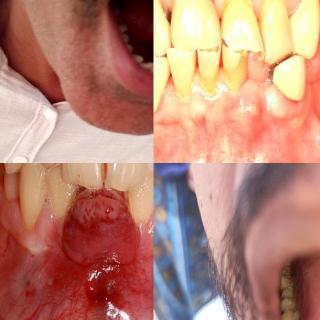Gum Swelling: (154, 72, 301, 128), (65, 194, 135, 276), (23, 206, 53, 253)
maligned: (19, 163, 48, 227), (141, 60, 153, 70)
stains: (96, 163, 114, 187), (280, 307, 288, 320), (279, 292, 287, 305)
